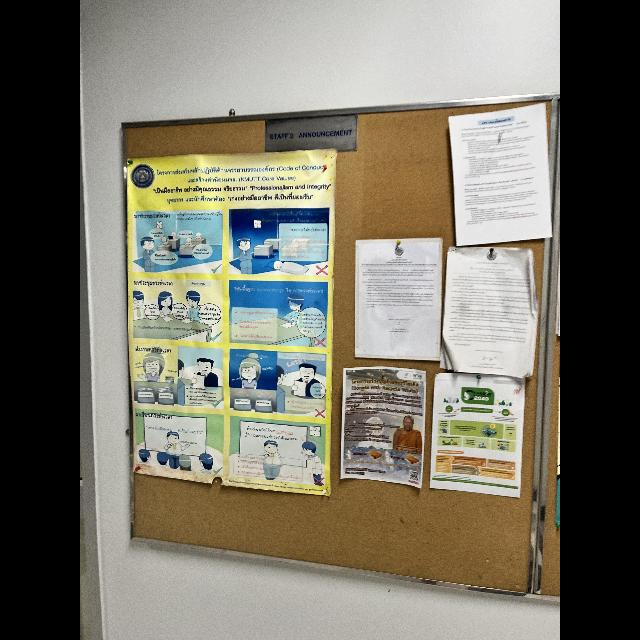reuseable_paper: (128, 142, 338, 496), (353, 104, 551, 370), (339, 370, 521, 496)
